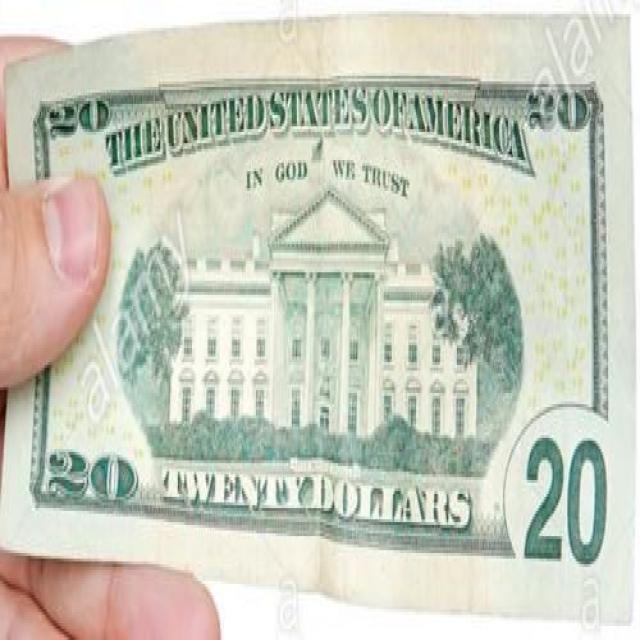20-Back: (5, 19, 636, 628)
